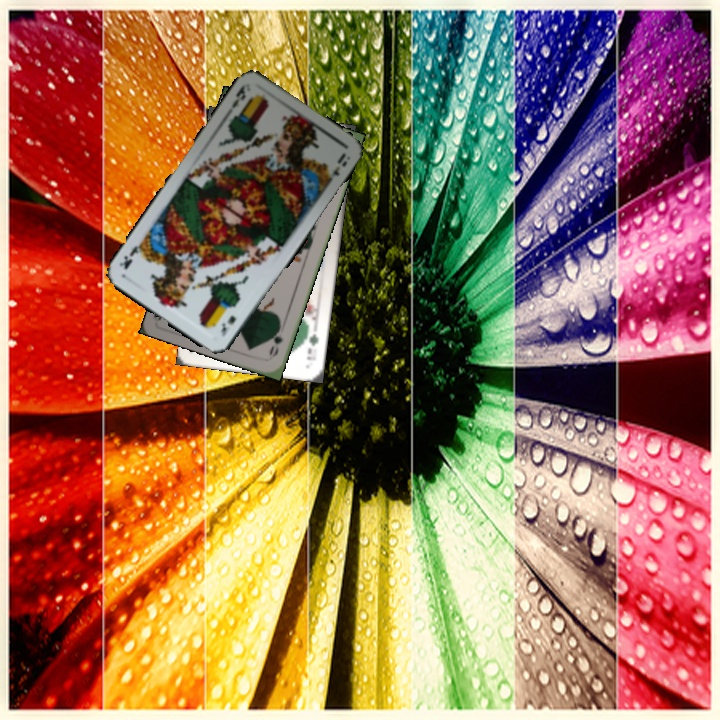EK: (217, 311, 239, 339), (228, 82, 248, 111)
GK: (303, 329, 322, 363)
GO: (265, 321, 286, 359)
